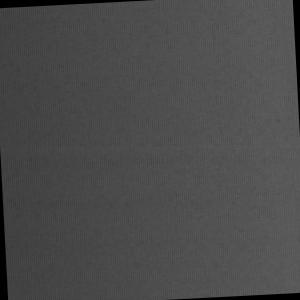Wrinkle: (1, 124, 259, 178), (3, 182, 218, 221)
